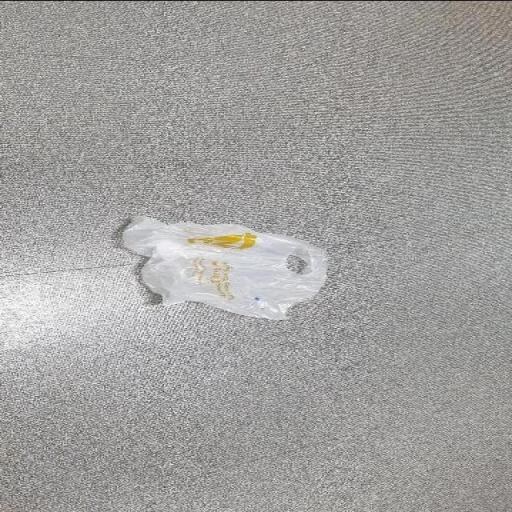plastic-bag: (114, 214, 327, 318)
